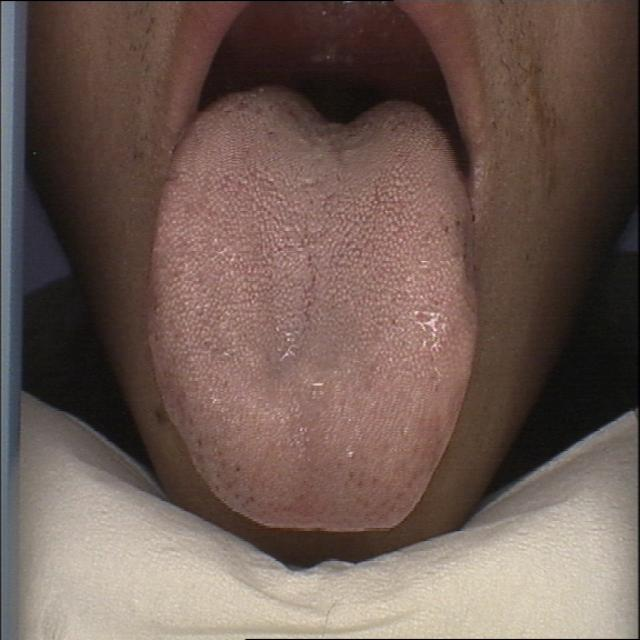tongue: (146, 92, 486, 547)
